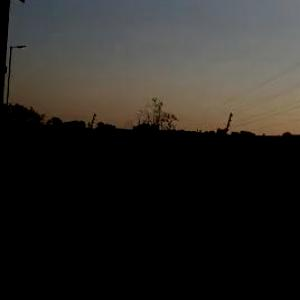follow: (90, 119, 170, 299)
